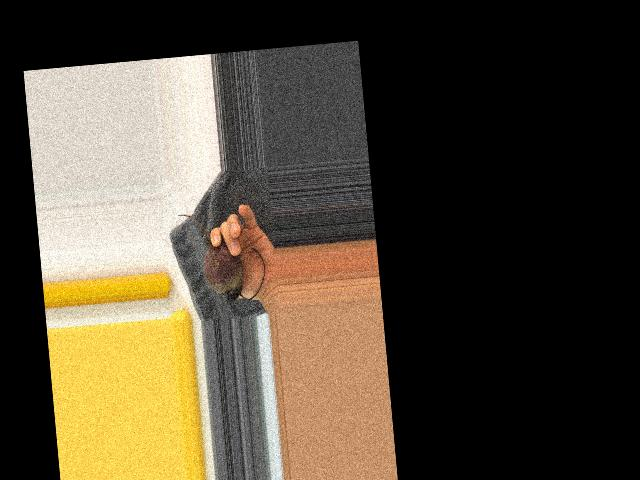beet: (178, 207, 268, 304)
